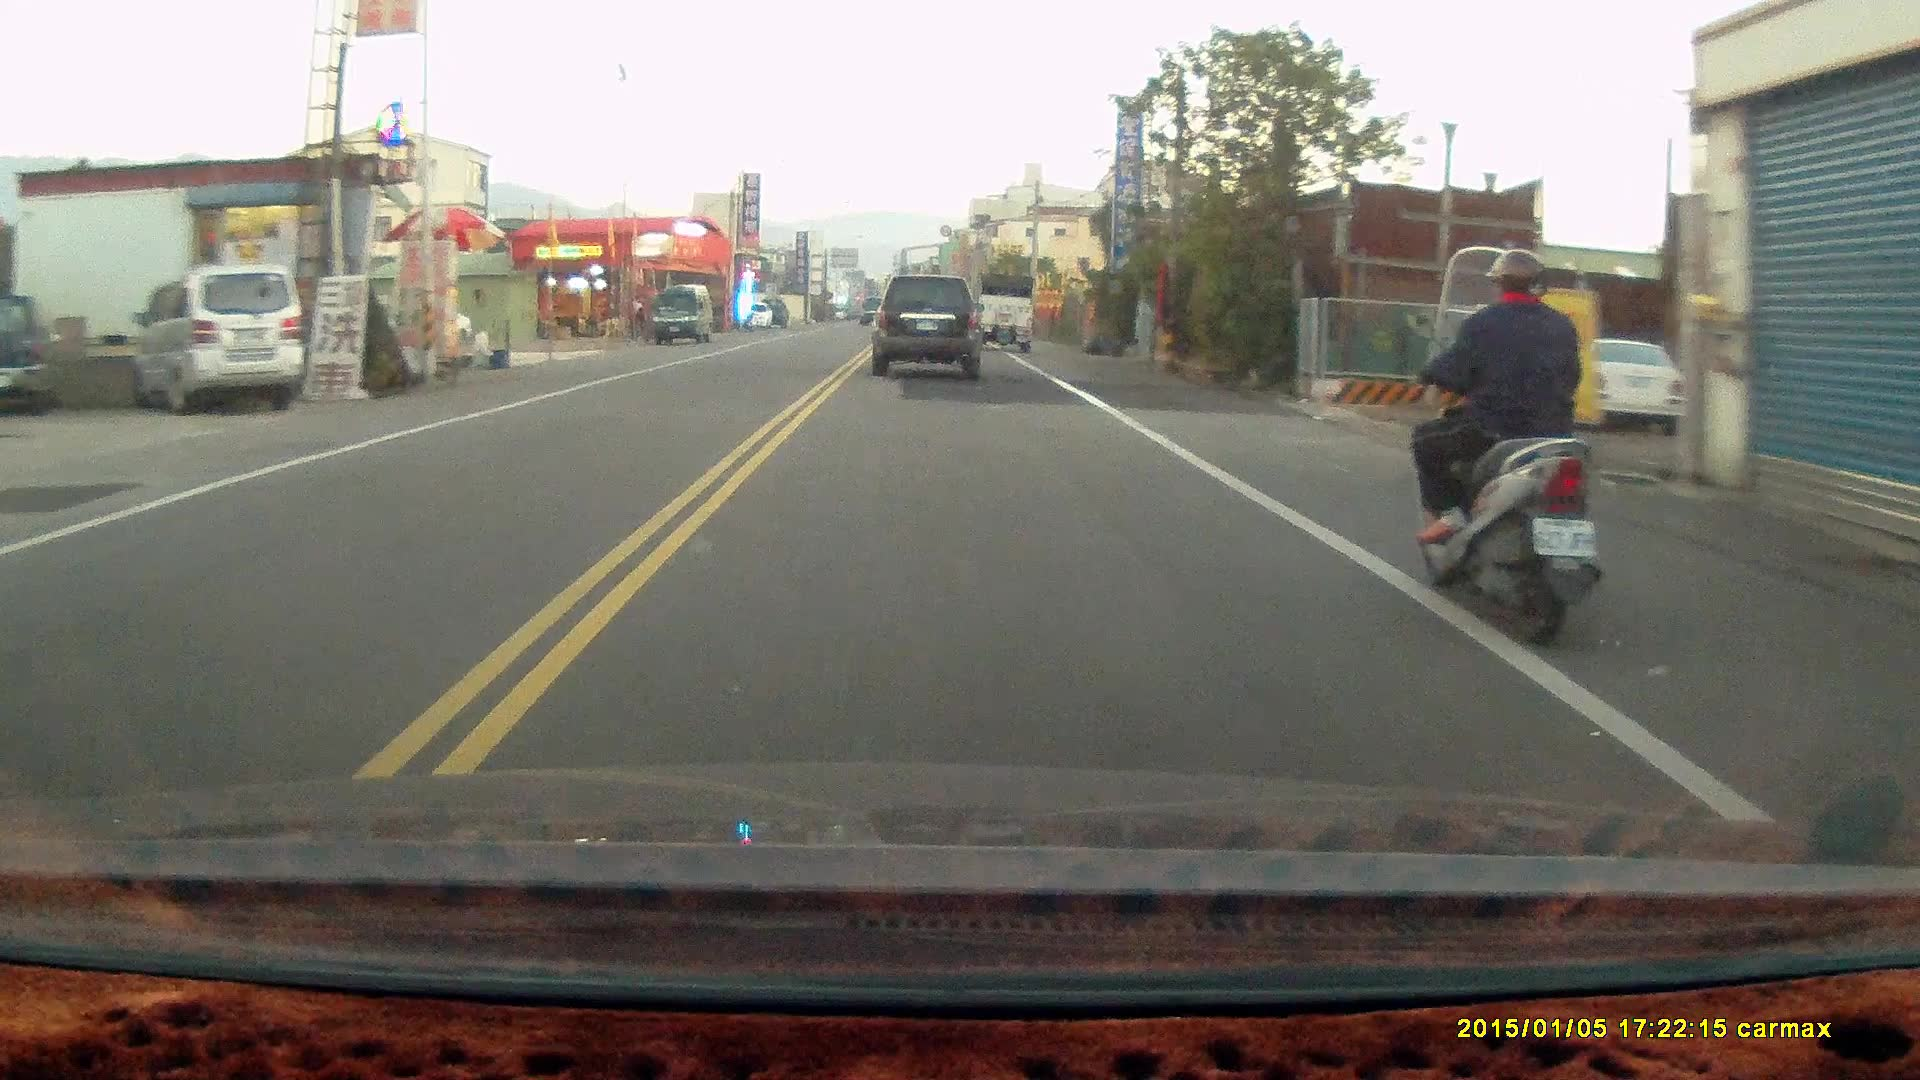rider: (1402, 244, 1602, 652)
vehicle: (139, 267, 308, 416), (874, 275, 988, 379), (1, 296, 50, 414), (974, 272, 1036, 354), (651, 285, 714, 348)
